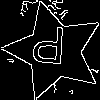P: (29, 26, 67, 73)
